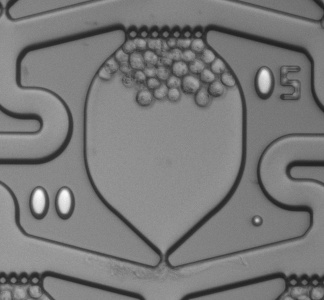AptNum: (248, 60, 308, 108)
Marker: (246, 210, 268, 231)
StNum: (21, 177, 85, 228)
Trap: (136, 257, 193, 300)
